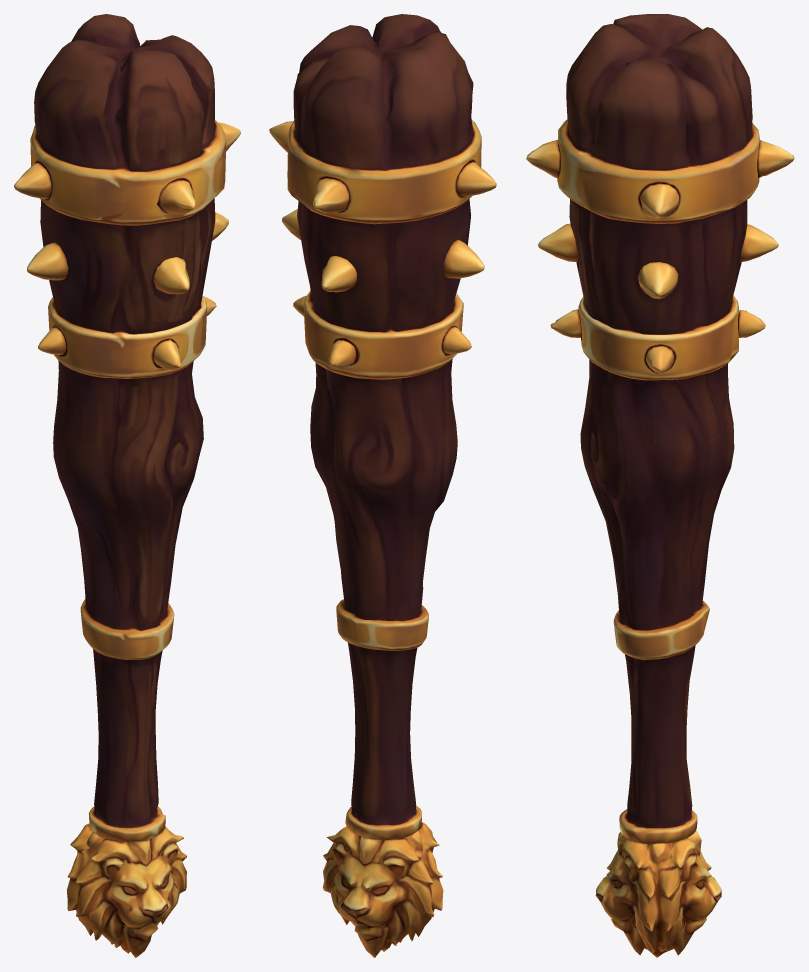
File: club.glb
3 views of the same model, side by side, from view 1: azimuth 30°, elevation 25°; view 2: azimuth 150°, elevation 25°; view 3: azimuth 270°, elevation 25° (orthographic).
Parts seen in each view (by area): view 1: geometry_0; view 2: geometry_0; view 3: geometry_0.
Part boxes in pixels (bbox=[...]): geometry_0: bbox=[14, 14, 240, 957]; geometry_0: bbox=[269, 14, 496, 957]; geometry_0: bbox=[526, 14, 794, 957].
Size of the model in its own units: 0.2451 by 0.9512 by 0.2505.
1 material, 1 textured.
